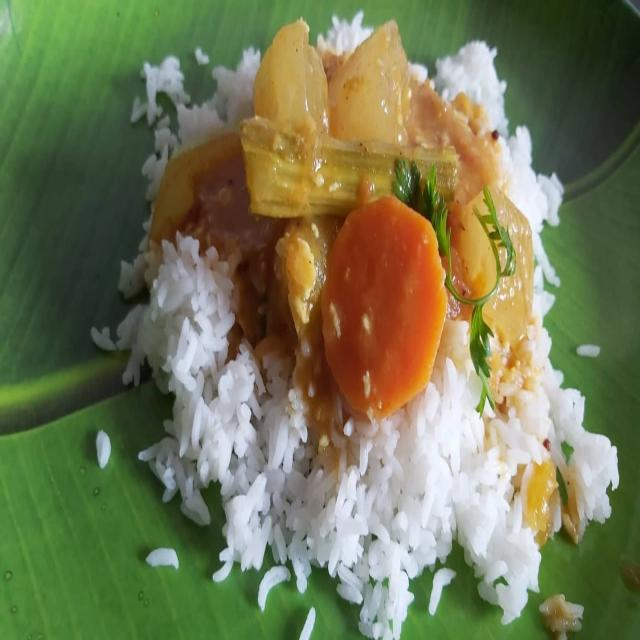veg meals: (86, 0, 632, 640)
